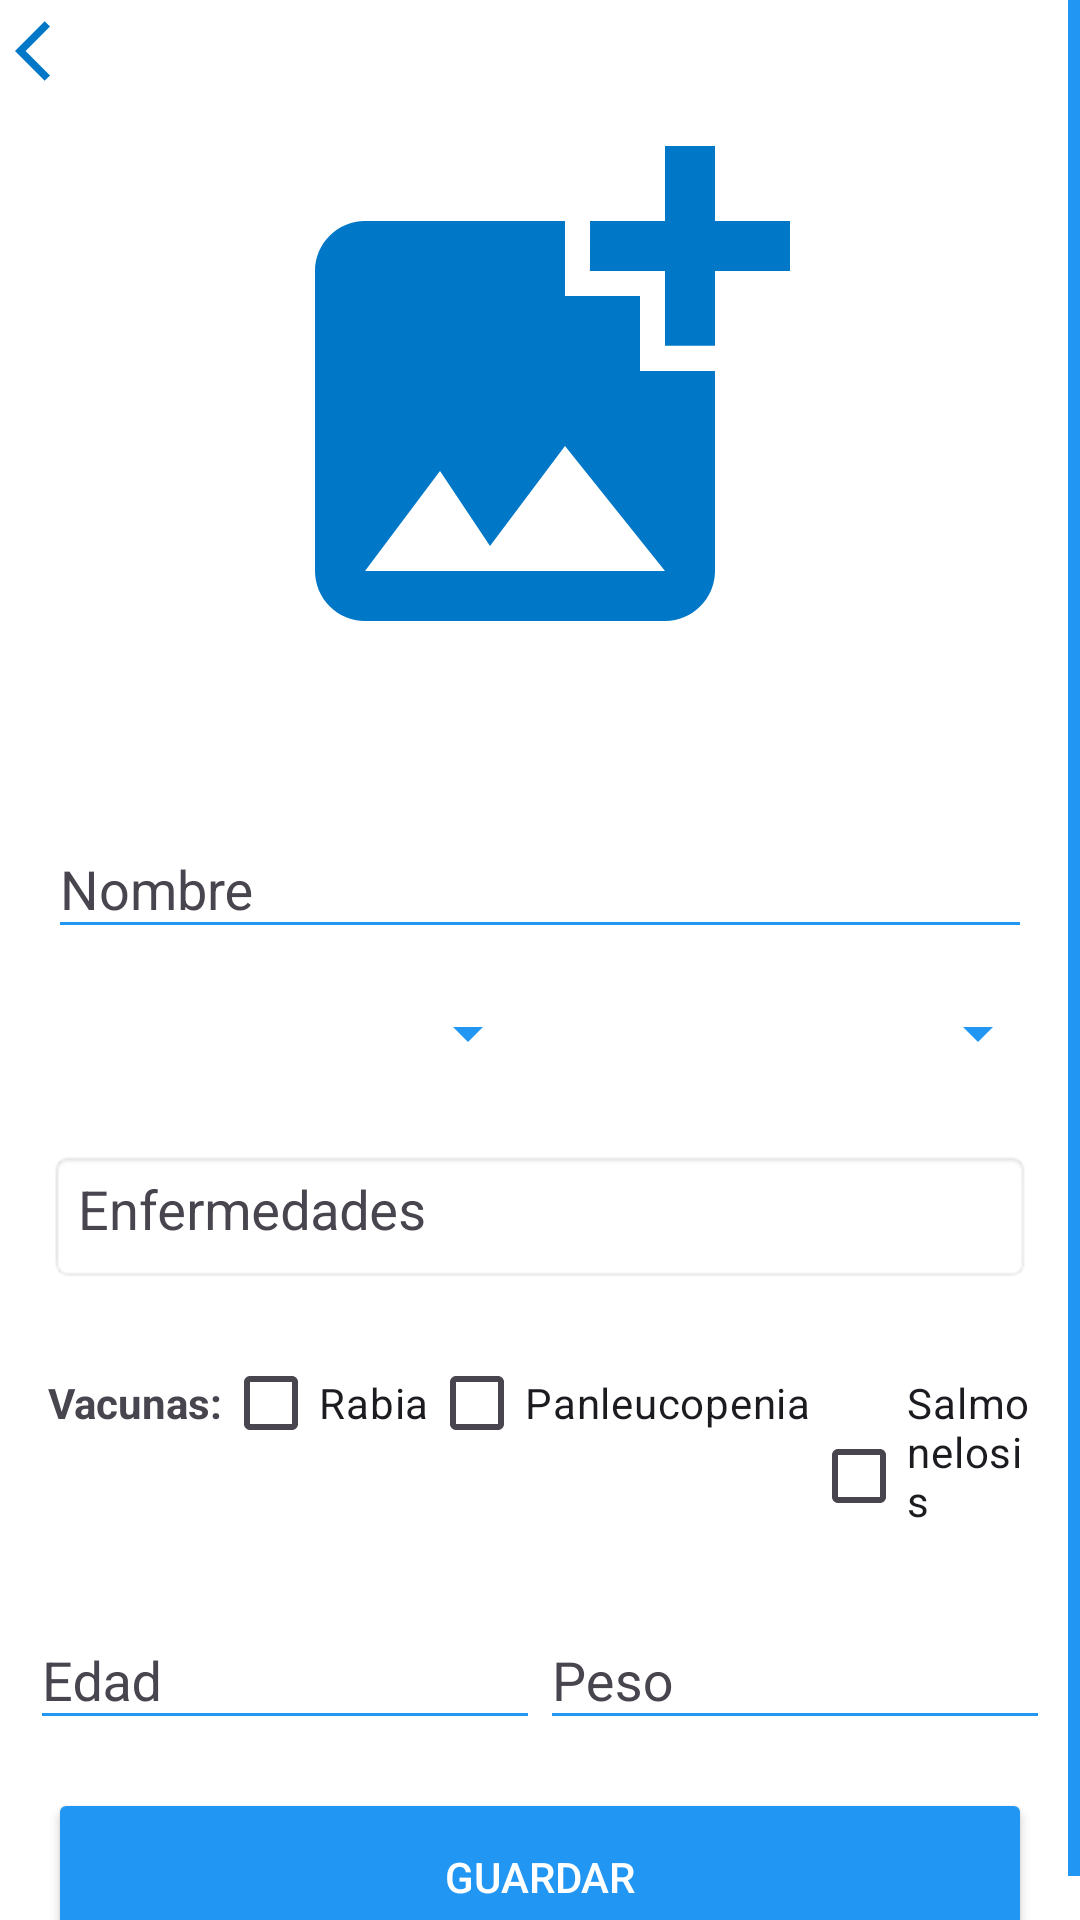

Icons on this 1080 × 1920 Android screen, each with the point to tap as [x,y]:
arrow back: [32,51]
